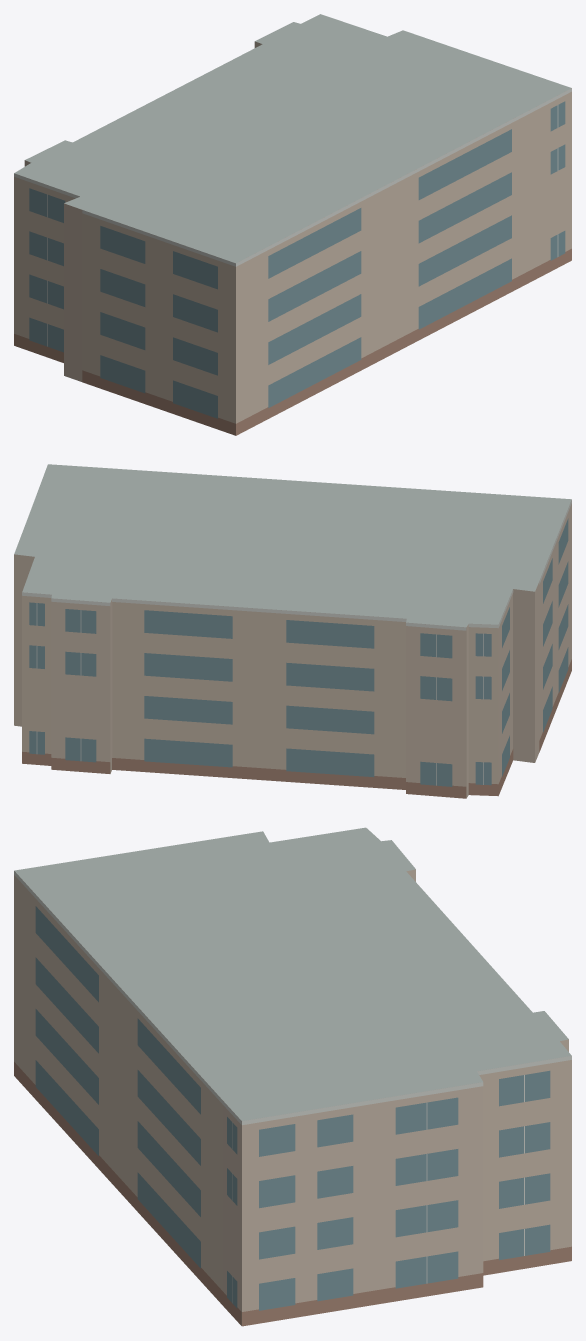
Rendered from survey-upis-32848014.glb.
3 views of the same model, one above another, from view 1: azimuth 30°, elevation 25°; view 2: azimuth 150°, elevation 25°; view 3: azimuth 270°, elevation 25° (orthographic). The views are drawn at different scales.
Visible parts, largest first — view 1: survey-upis-32848014.tmp; view 2: survey-upis-32848014.tmp; view 3: survey-upis-32848014.tmp.
Part boxes in pixels (box(x1,y1,x2,y2)): survey-upis-32848014.tmp: box(14, 14, 571, 435); survey-upis-32848014.tmp: box(14, 464, 571, 798); survey-upis-32848014.tmp: box(14, 827, 571, 1326).
Size of the model in its own units: 37.45 by 12.2 by 30.06.
